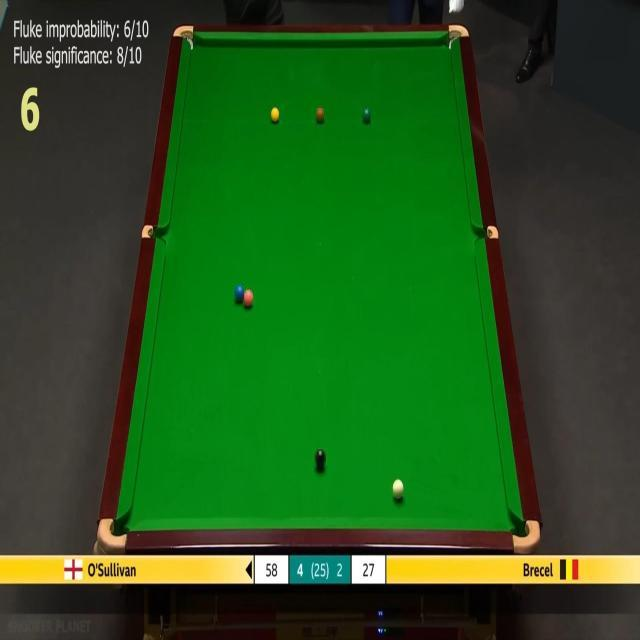Ball: (392, 479, 404, 499), (314, 450, 326, 468), (234, 284, 244, 301), (243, 290, 253, 306), (270, 106, 280, 122), (362, 108, 370, 122), (316, 109, 324, 122)
